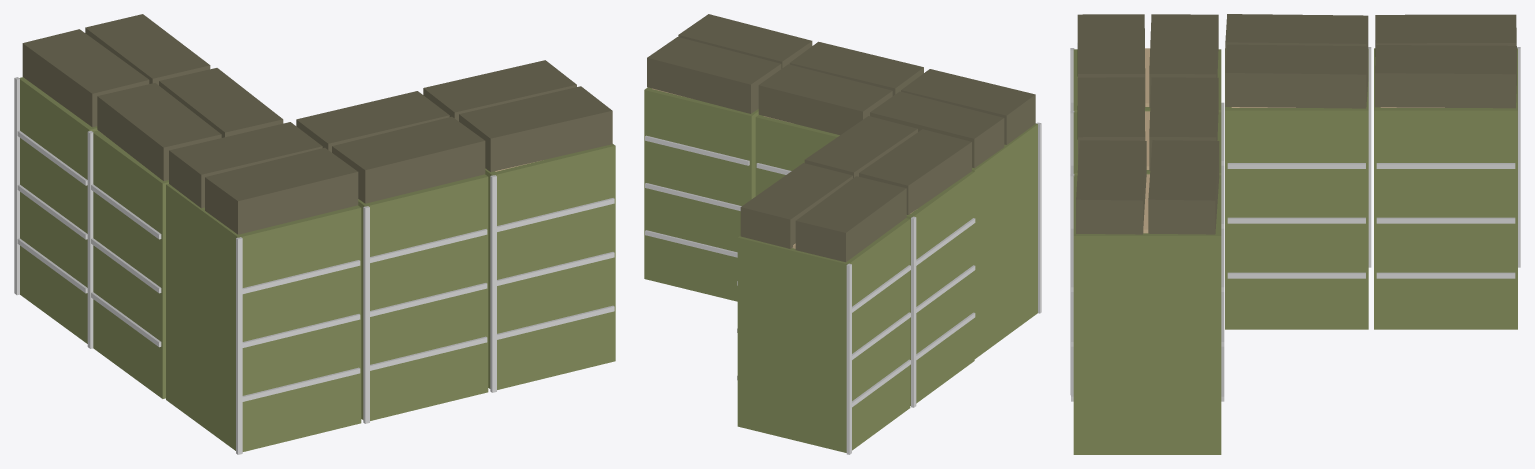
Rendered from SM_HescoEsquina_v3_RemateSacos_e0_Sano_LOD0.fbx.
3 views of the same model, side by side, from view 1: azimuth 30°, elevation 25°; view 2: azimuth 150°, elevation 25°; view 3: azimuth 270°, elevation 25° (orthographic). The views are drawn at different scales.
Visible parts, largest first — view 1: SM_hesco_piezas_v12_LOD0; view 2: SM_hesco_piezas_v12_LOD0; view 3: SM_hesco_piezas_v12_LOD0.
Boxes of the visible parts, x1,y1,x2,y2 form: SM_hesco_piezas_v12_LOD0: [14, 14, 615, 454]; SM_hesco_piezas_v12_LOD0: [644, 14, 1041, 454]; SM_hesco_piezas_v12_LOD0: [1070, 14, 1520, 454].
Size of the model in its own units: 3.33 by 2.09 by 3.35.
